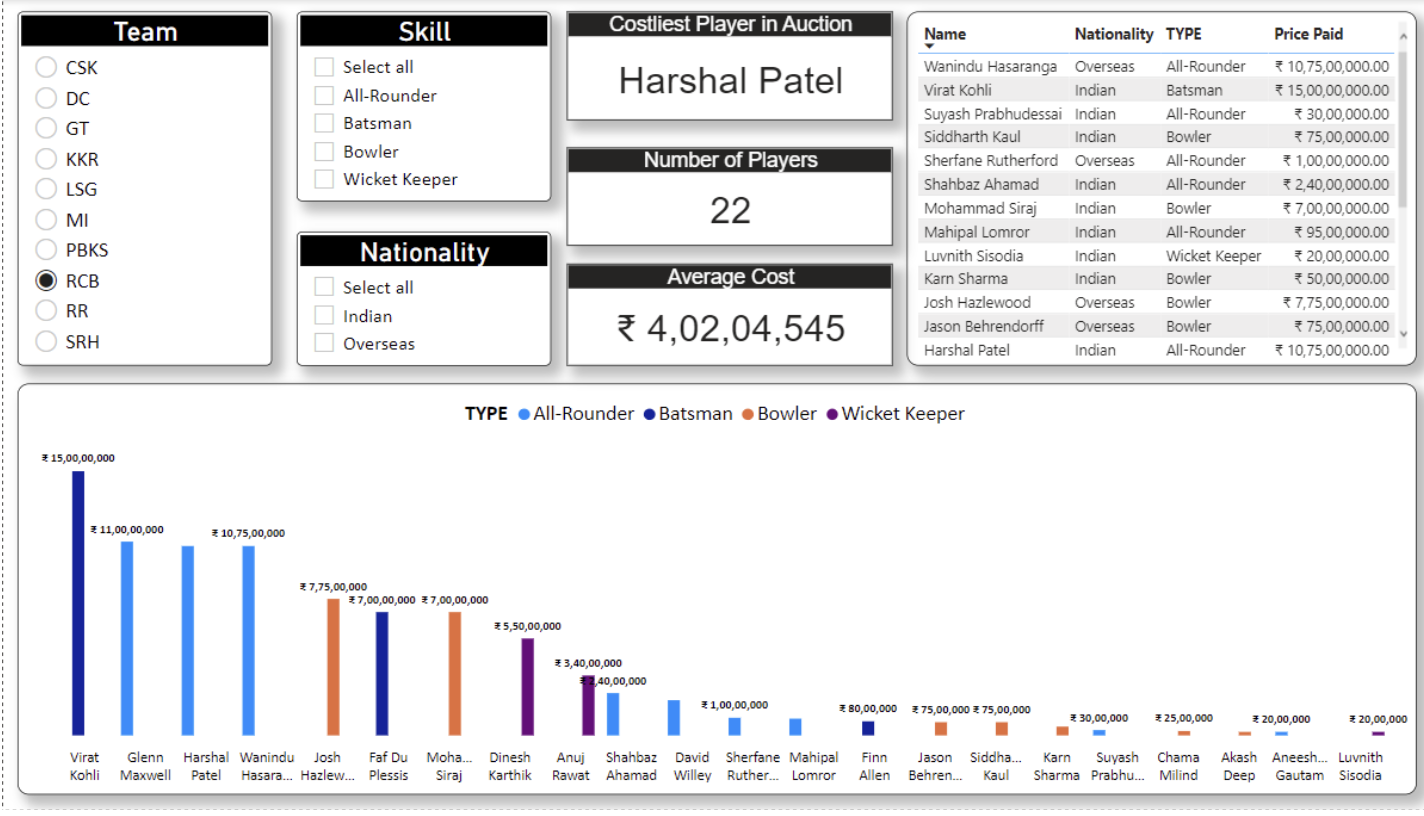

The dashboard page shown, as its layout file describes it:
{"tool":"powerbi","page":{"name":"Page 2","canvas":[1280,720],"ordinal":1},"visuals":[{"type":"clusteredColumnChart","title":"Players sold over 10Cr","fields":{"Category":["AllPlayers.PLAYER"],"Series":["AllPlayers.TYPE"],"Y":["AllPlayers.PRICE PAID"]},"box":[12.7,341.7,1242.9,365.6],"z":0},{"type":"slicer","title":"Team","fields":{"Values":["AllPlayers.Team"]},"box":[12.7,11.1,225.7,314.7],"z":1000},{"type":"slicer","title":"Skill","fields":{"Values":["AllPlayers.TYPE"]},"box":[260.7,11.1,225.7,168.5],"z":2000},{"type":"slicer","title":"Nationality","fields":{"Values":["AllPlayers.NATIONALITY"]},"box":[260.7,206.6,225.7,119.2],"z":3000},{"type":"tableEx","title":"Players sold over 10Cr","fields":{"Values":["AllPlayers.PLAYER","AllPlayers.NATIONALITY","AllPlayers.TYPE","AllPlayers.PRICE PAID"]},"box":[802.6,11.1,453,314.7],"z":4000},{"type":"card","title":"Costliest Player in Auction","fields":{"Values":["AllPlayers.PLAYER"]},"box":[500.7,11.1,289.3,97],"z":5000},{"type":"card","title":"Number of Players","fields":{"Values":["AllPlayers.PLAYER"]},"box":[500.7,131.9,289.3,87.4],"z":6000},{"type":"card","title":"Average Cost","fields":{"Values":["AllPlayers.PRICE PAID"]},"box":[500.7,235.2,289.3,90.6],"z":7000}]}

Visuals, with their boxes in screenshot pixels (x1, y1, x2, y2), scaled from the page's 1280x720 canvas onto the 1424x816 screenshot:
"Players sold over 10Cr" clusteredColumnChart: [left=14, top=387, right=1397, bottom=802]
"Team" slicer: [left=14, top=13, right=265, bottom=369]
"Skill" slicer: [left=290, top=13, right=541, bottom=204]
"Nationality" slicer: [left=290, top=234, right=541, bottom=369]
"Players sold over 10Cr" tableEx: [left=893, top=13, right=1397, bottom=369]
"Costliest Player in Auction" card: [left=557, top=13, right=879, bottom=123]
"Number of Players" card: [left=557, top=149, right=879, bottom=249]
"Average Cost" card: [left=557, top=267, right=879, bottom=369]
